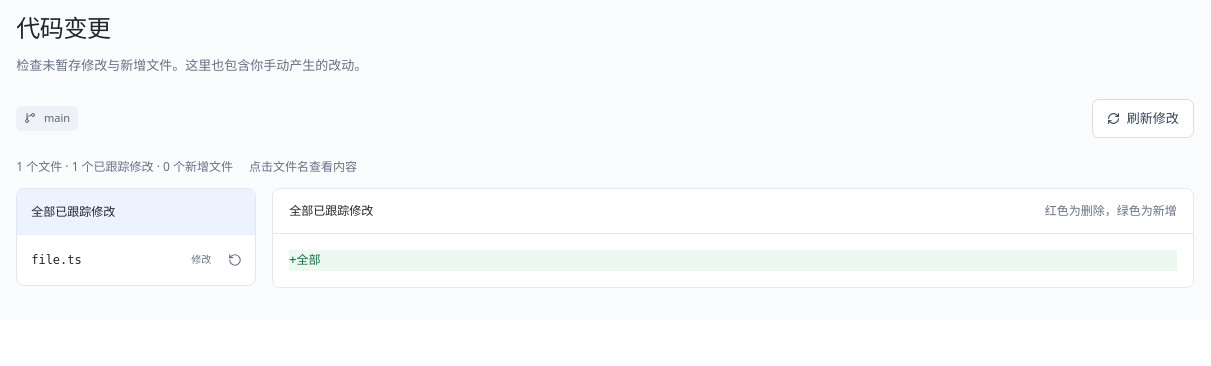
Test: 逐文件 Diff、预览失败、刷新与空文件提示都可见
The image size is (1211, 366).
What coordinates should you click on to do the following:
click the button with aria-label "查看 file.ts"
I would click on:
 (121, 260)
Its box is 23,239 -> 219,281.
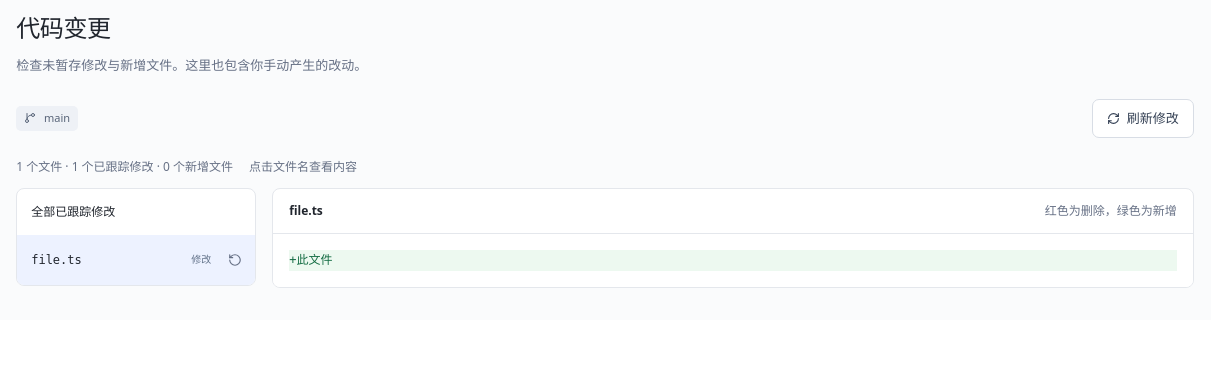
Now the text "+此文件" is shown, box 289,250 -> 1177,271
Now the text "+全部" is gone
What coordinates should you click on to do the following:
click the button with aria-label "查看 file.ts"
I would click on:
 (121, 260)
Its box is 23,239 -> 219,281.
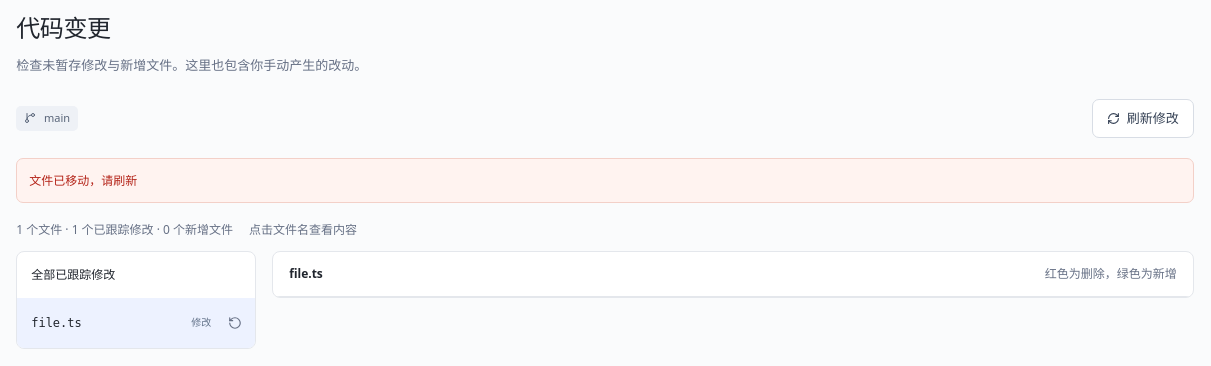
Now the message shows "文件已移动", box 29,172 -> 137,189
What coordinates should you click on to do the following:
click the button "刷新修改"
I would click on:
 (1143, 118)
Its box is 1092,99 -> 1194,138.
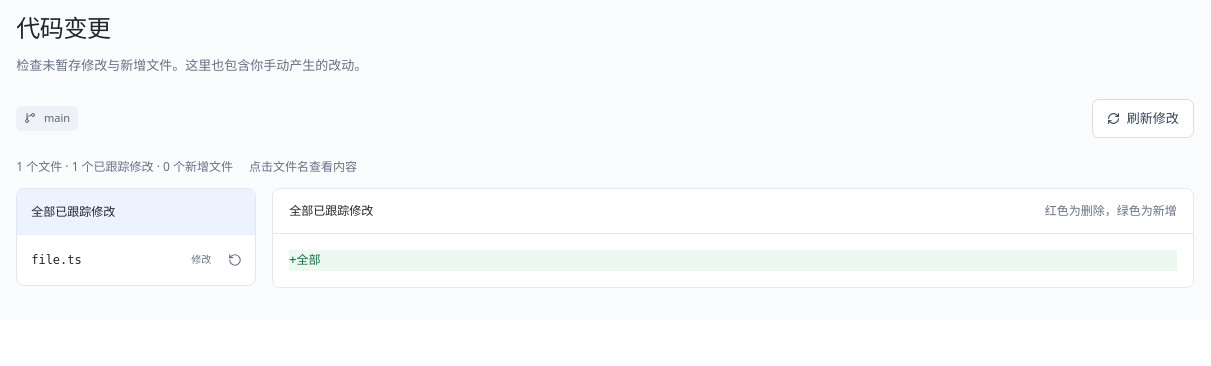
Now the text "+全部" is shown, box 289,250 -> 1177,271
What coordinates should you click on to do the following:
click the button with aria-label "查看 file.ts"
I would click on:
 (121, 260)
Its box is 23,239 -> 219,281.
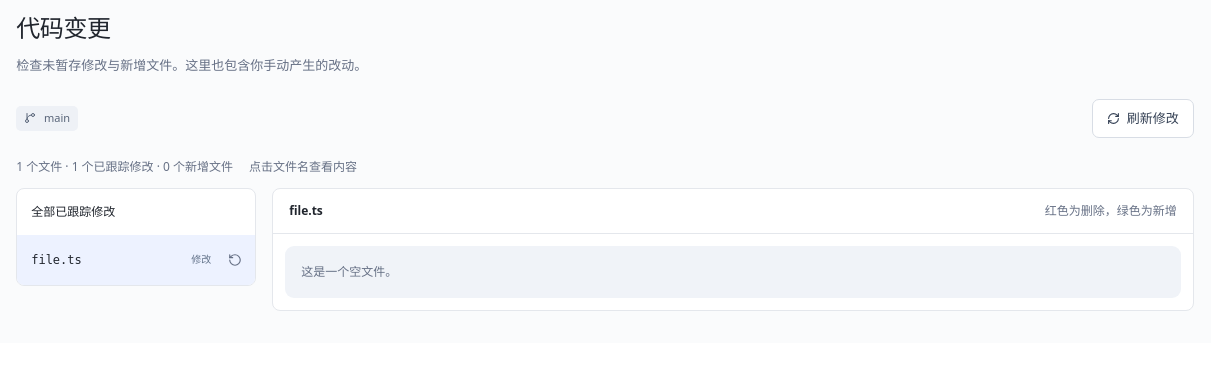
Now the text "这是一个空文件。" is shown, box 285,246 -> 1181,298
